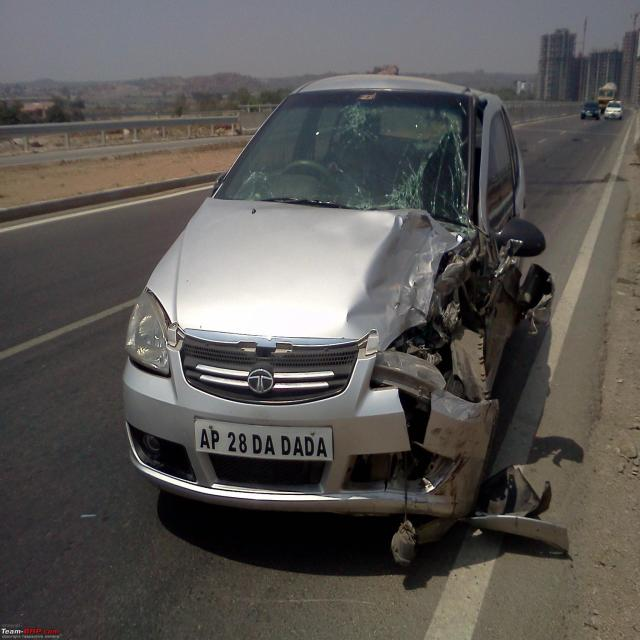crush: (344, 92, 555, 544)
